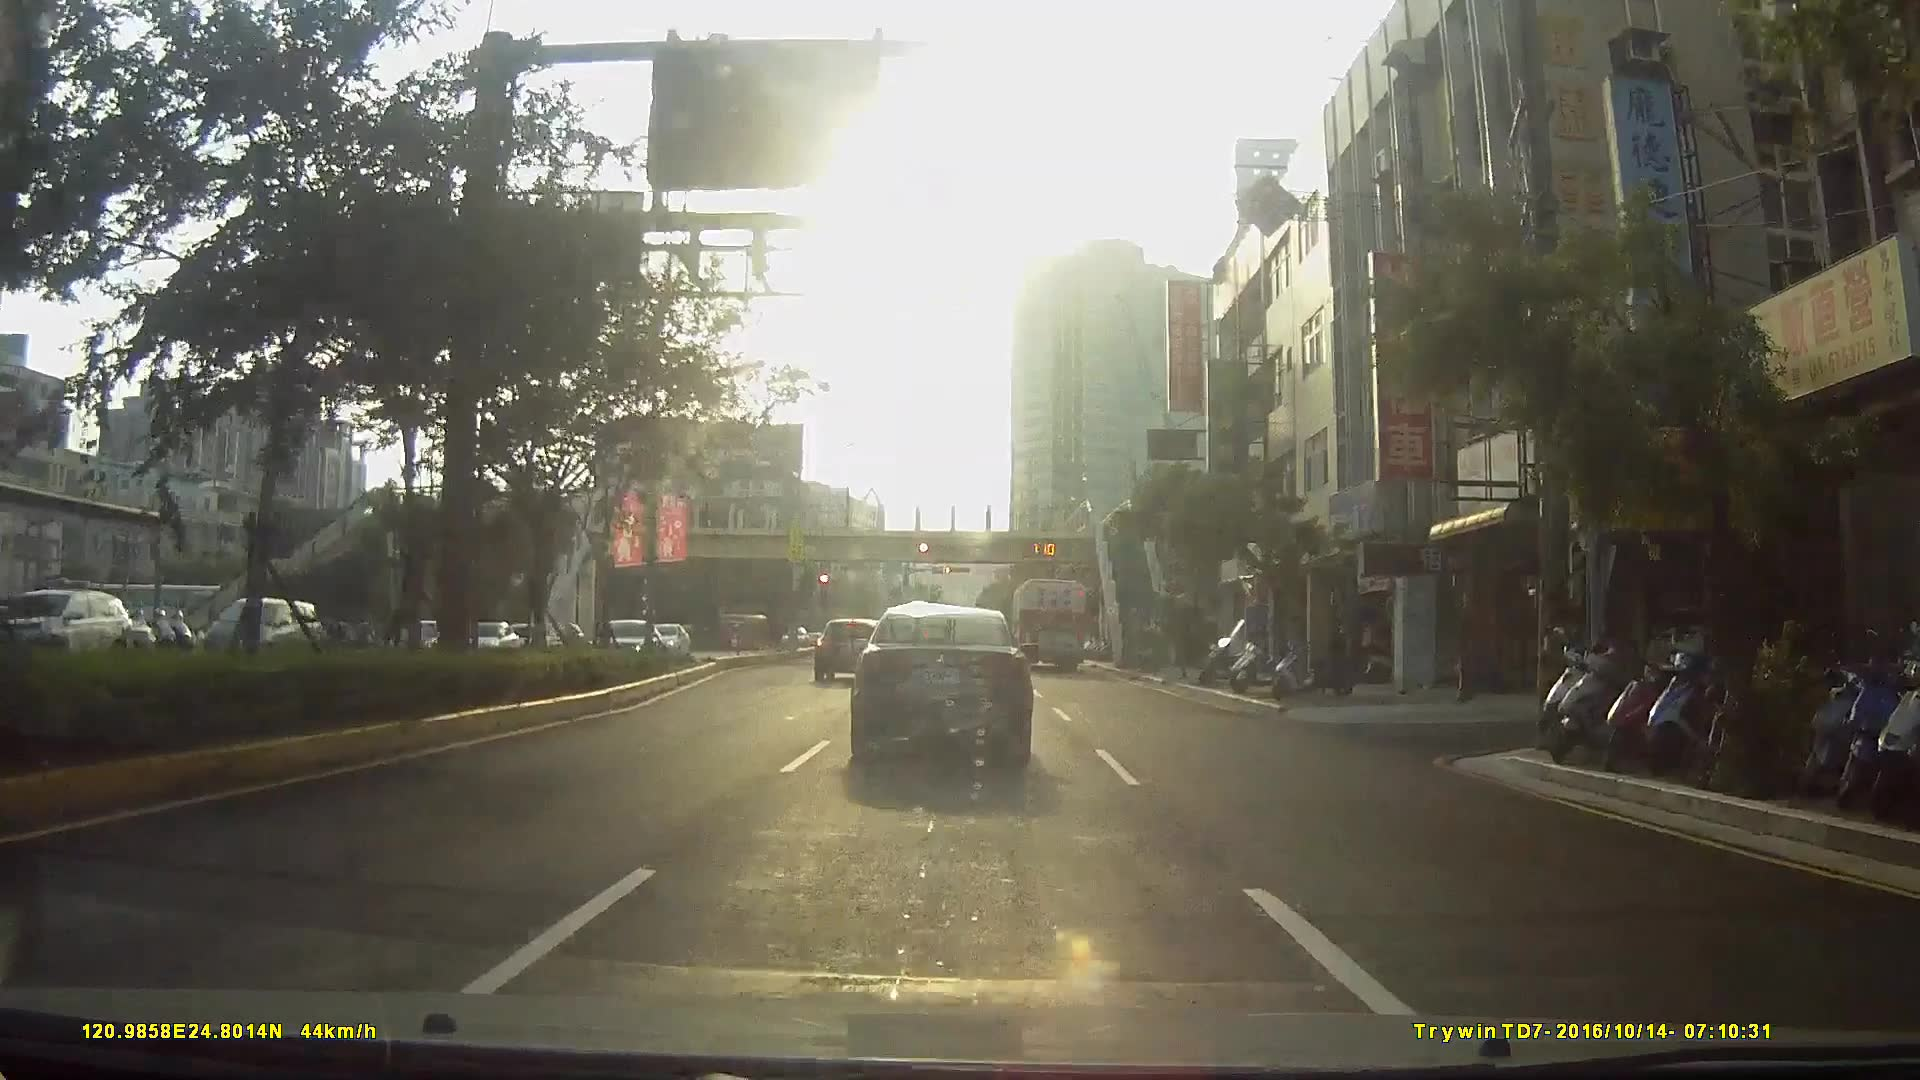vehicle: (848, 603, 1034, 765), (371, 551, 464, 659), (196, 593, 320, 665), (1006, 576, 1088, 675), (814, 615, 882, 683)
